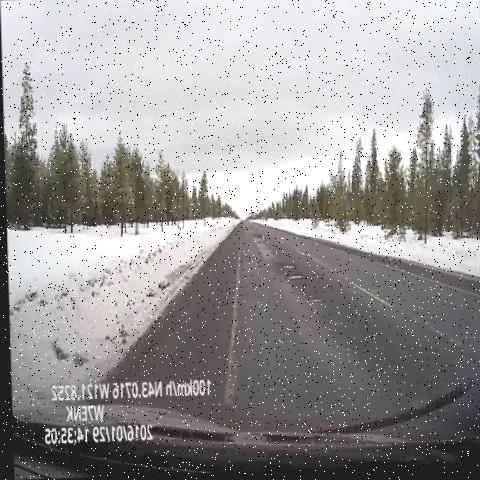pothole: (306, 288, 327, 307), (276, 258, 297, 274), (252, 231, 268, 252), (284, 272, 306, 287)
